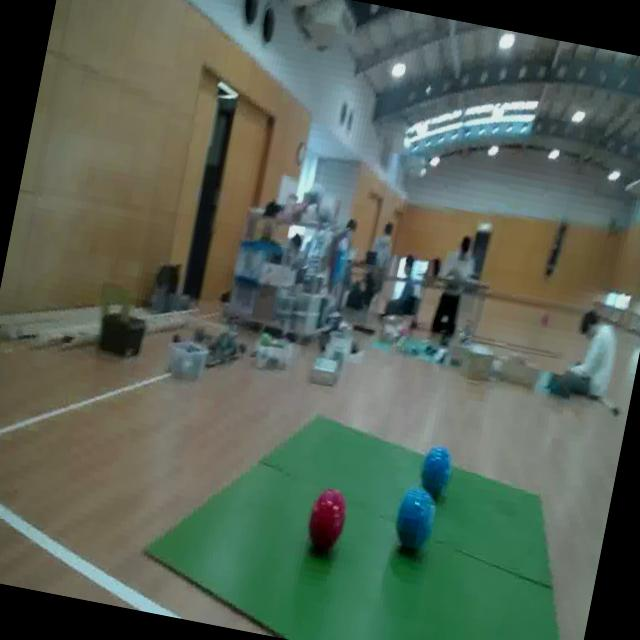blue_ball: (387, 482, 441, 560), (416, 439, 456, 504)
red_ball: (302, 480, 352, 560)
